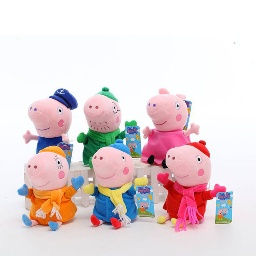Peppa: (155, 140, 228, 231)
